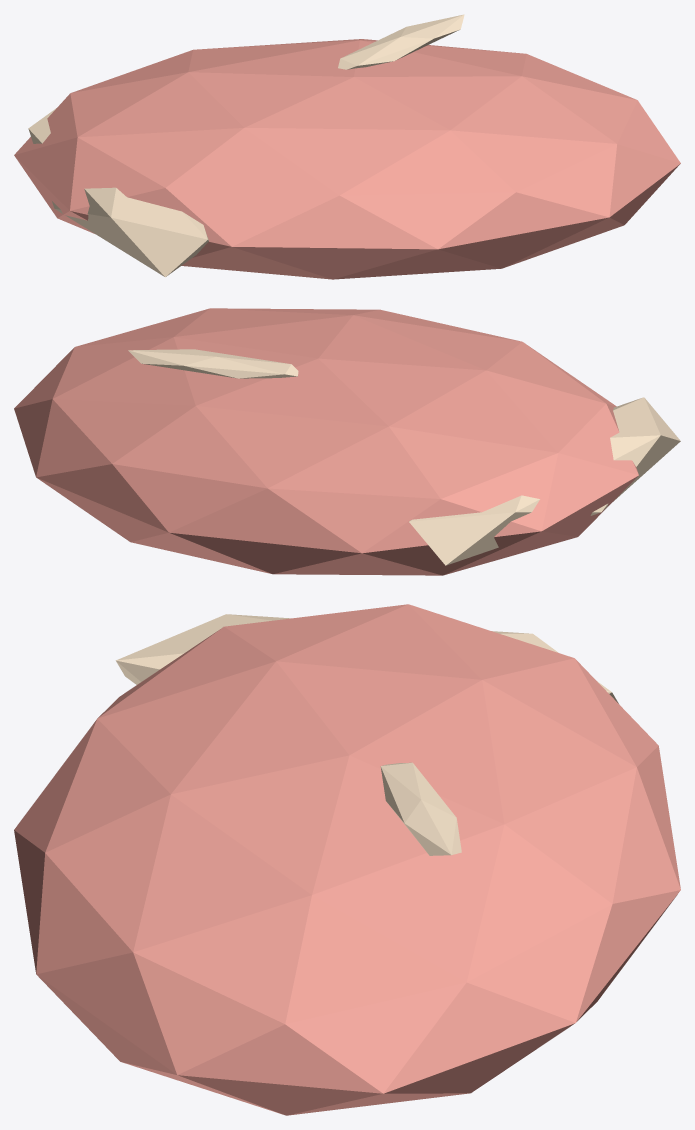
Rendered from FTF_Ingredient_RawPork_ThickSlice.glb.
3 renders of one model, top to bottom at view 1: azimuth 30°, elevation 25°; view 2: azimuth 150°, elevation 25°; view 3: azimuth 270°, elevation 25°, orthographic. The views are drawn at different scales.
Visible parts, largest first — view 1: FTF_Ingredient_RawPork_ThickSlice_StaticMesh; view 2: FTF_Ingredient_RawPork_ThickSlice_StaticMesh; view 3: FTF_Ingredient_RawPork_ThickSlice_StaticMesh.
Part boxes in pixels (box(x1,y1,x2,y2)): FTF_Ingredient_RawPork_ThickSlice_StaticMesh: box(14, 14, 680, 279); FTF_Ingredient_RawPork_ThickSlice_StaticMesh: box(14, 308, 680, 575); FTF_Ingredient_RawPork_ThickSlice_StaticMesh: box(14, 604, 680, 1115).
Bounding box in the file's own units: 0.8719 × 0.2365 × 0.6328.
